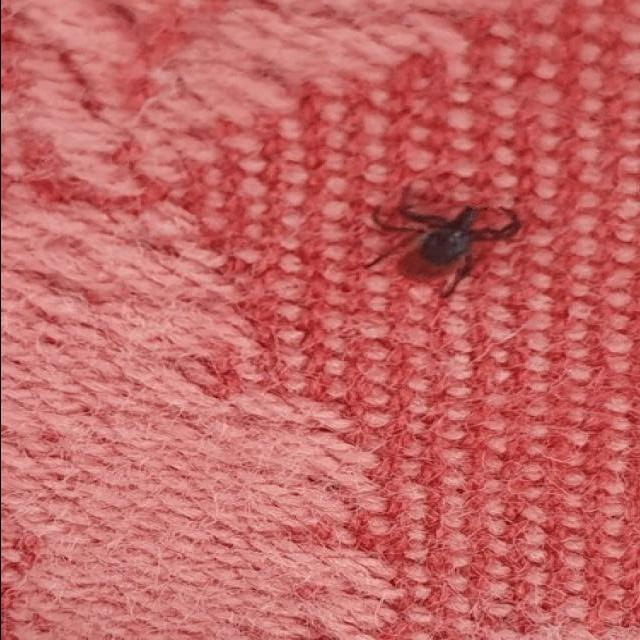Ixodes Ricinus-F: (341, 206, 524, 297)
